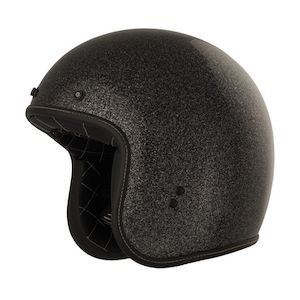with_helmet: (20, 26, 275, 261)
